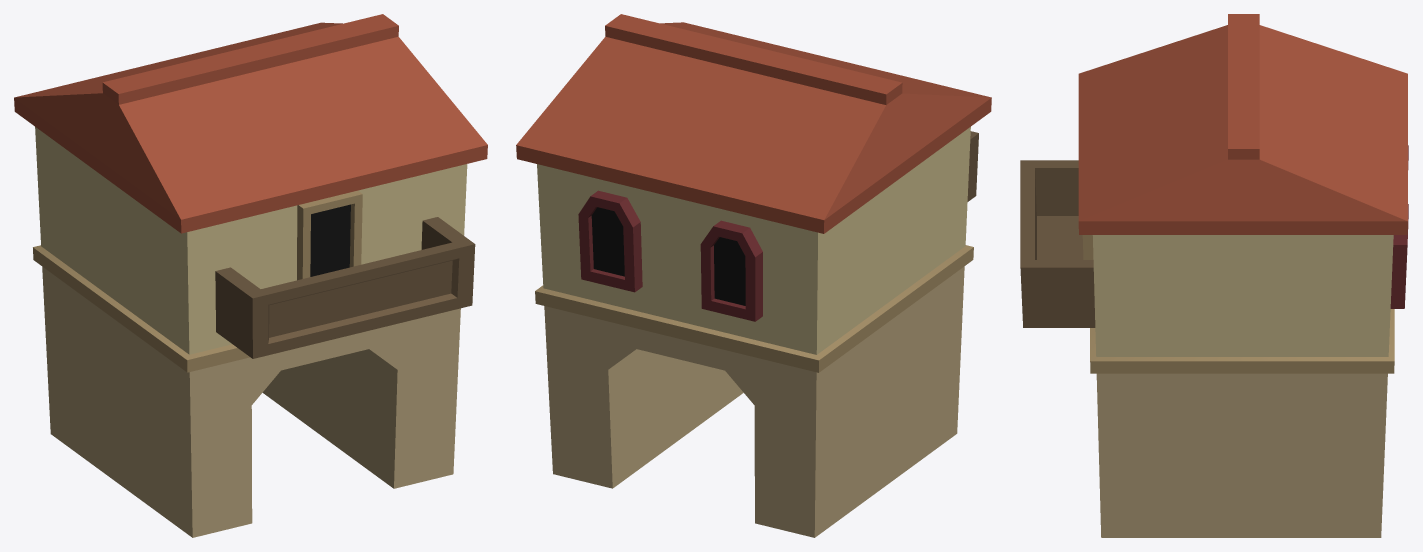
Rendered from House_Tiny4.fbx.
3 renders of one model, left to right at view 1: azimuth 30°, elevation 25°; view 2: azimuth 150°, elevation 25°; view 3: azimuth 270°, elevation 25°, orthographic.
Parts seen in each view (by area): view 1: SM_Bld_Pirates_House_02; view 2: SM_Bld_Pirates_House_02; view 3: SM_Bld_Pirates_House_02.
Part boxes in pixels (x1=…): SM_Bld_Pirates_House_02: x1=14, y1=14, x2=487, y2=537; SM_Bld_Pirates_House_02: x1=516, y1=14, x2=991, y2=537; SM_Bld_Pirates_House_02: x1=1020, y1=14, x2=1408, y2=537.
Size of the model in its own units: 115 by 144 by 128.
